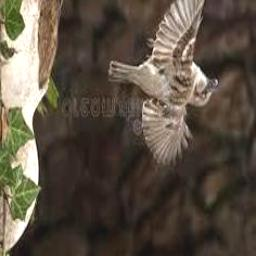Sparrow: (107, 0, 225, 167)
